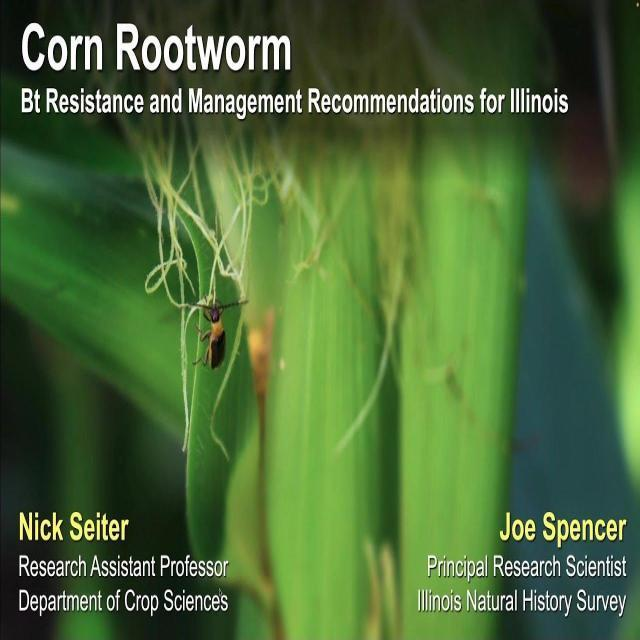trips: (198, 284, 238, 378)
